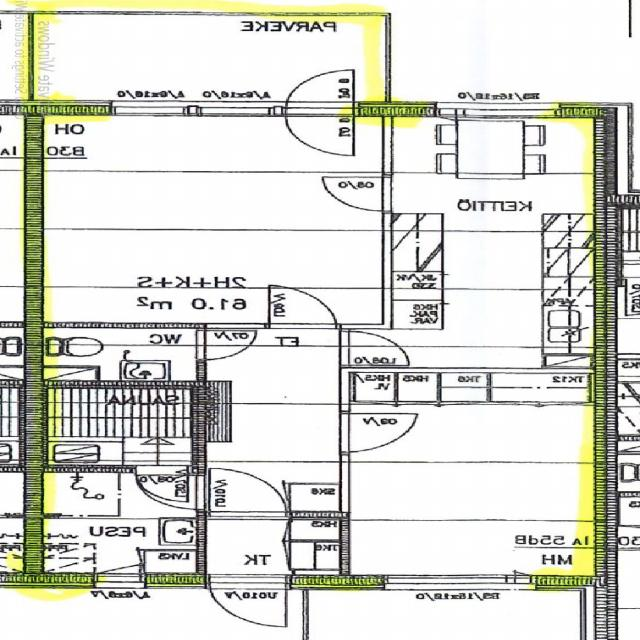door: (211, 575, 286, 632), (287, 102, 355, 156), (287, 64, 355, 118), (210, 468, 286, 516), (341, 413, 418, 452), (270, 286, 336, 329), (136, 475, 206, 509), (340, 331, 410, 365), (323, 177, 393, 210), (136, 464, 189, 502), (196, 330, 258, 360)
